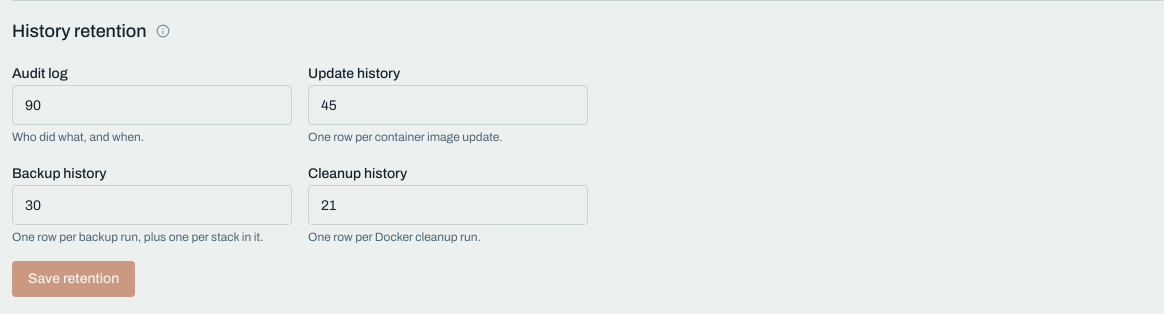
Test case: HistoryRetentionSection › disables saving until something changes
expect the button "Save retention" is disabled: met, box x1=12 y1=261 x2=135 y2=297
Replace the text in the number field labelled "Audit log" with "120": (152, 105) x1=12 y1=85 x2=292 y2=125
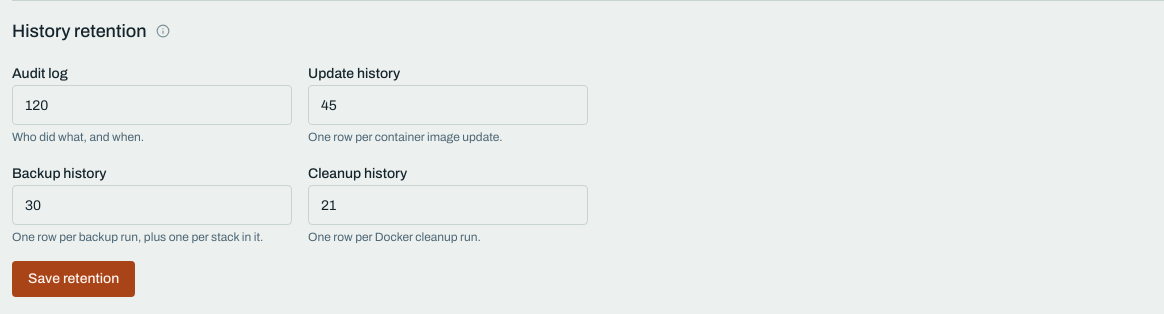
expect the button "Save retention" is enabled: met, box x1=12 y1=261 x2=135 y2=297
